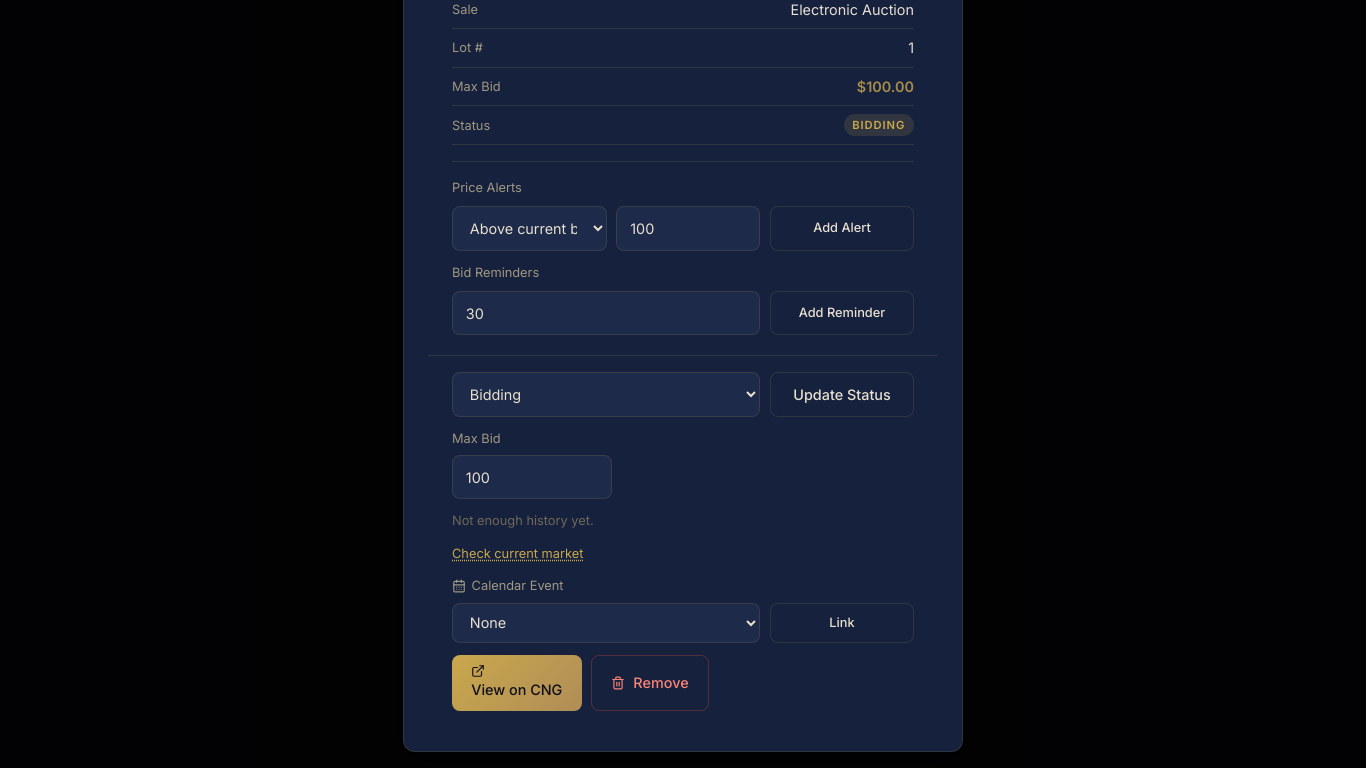
Test: AuctionLotDetailModal › shows a generic error message if the market signal request fails
(page scrolled)
Click the button "Check current market" at point(518, 554), box [452, 544, 583, 564]
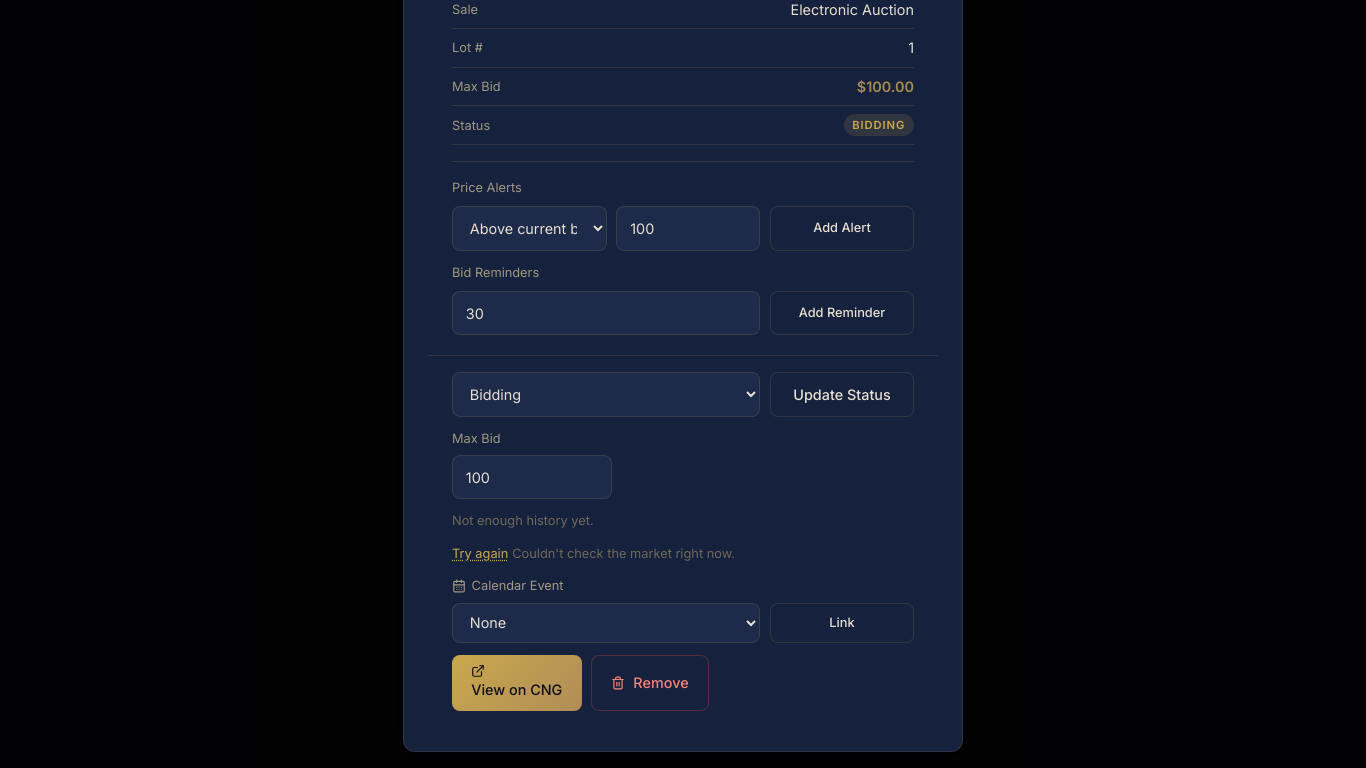
Now the text "Couldn't check the market right now." is shown, box [512, 546, 735, 561]
